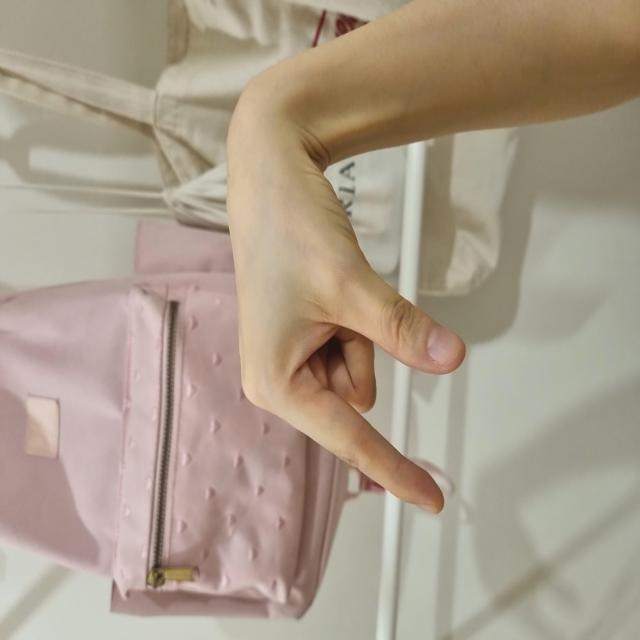Q: (124, 223, 523, 469)
